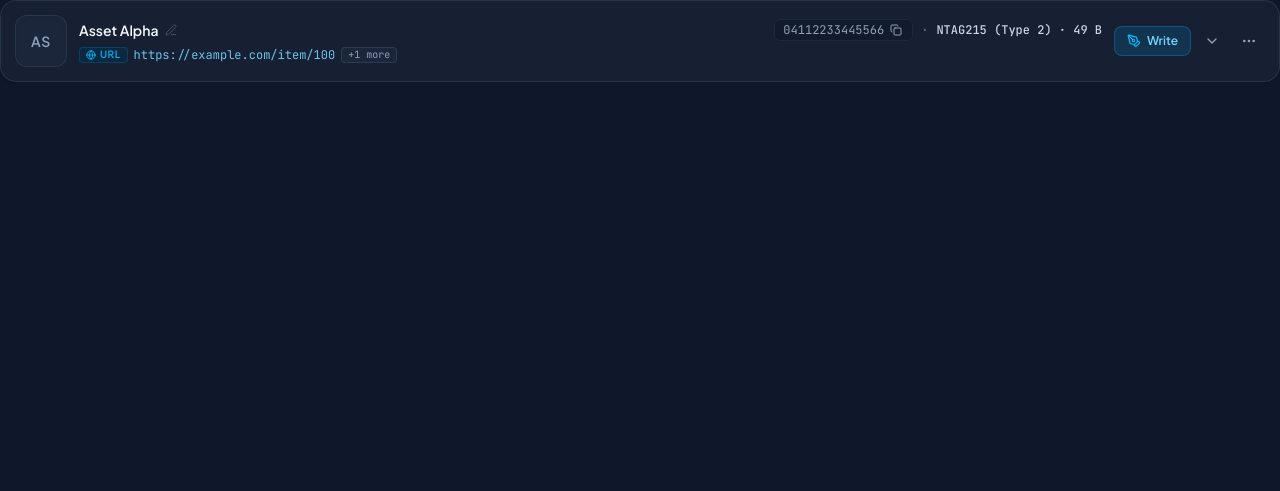
Test: TagCardItem Component Rendering & Interaction Tests › Progressive Disclosure (Details Drawer) › toggles details drawer when disclosure button is clicked
Click the button with test id "tag-details-toggle" at x=1212, y=41, box [1197,26,1227,56]
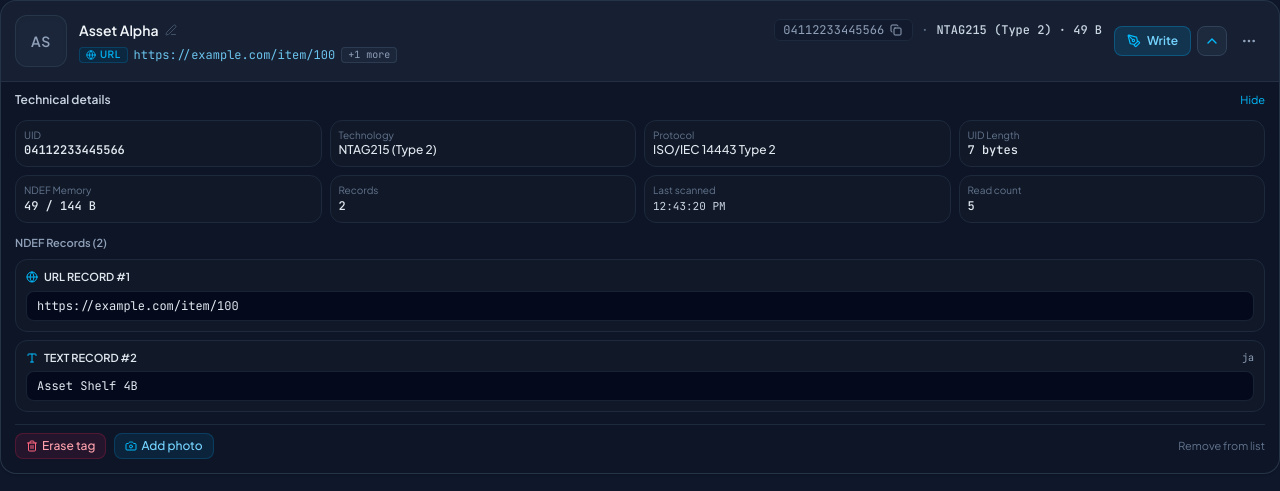
expect the button with test id "tag-details-toggle" is expanded: met
expect the text "ISO/IEC 14443 Type 2" is shown: met, box [653,142,776,157]
Click the button with test id "tag-details-toggle" at x=1212, y=41, box [1197,26,1227,56]
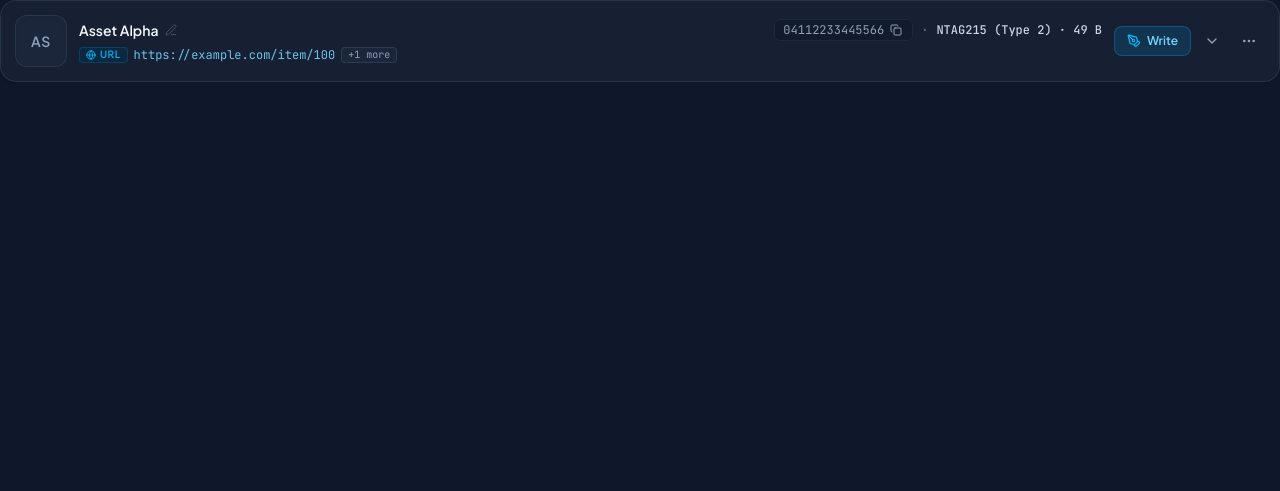
expect the button with test id "tag-details-toggle" is collapsed: met, box [1197,26,1227,56]
